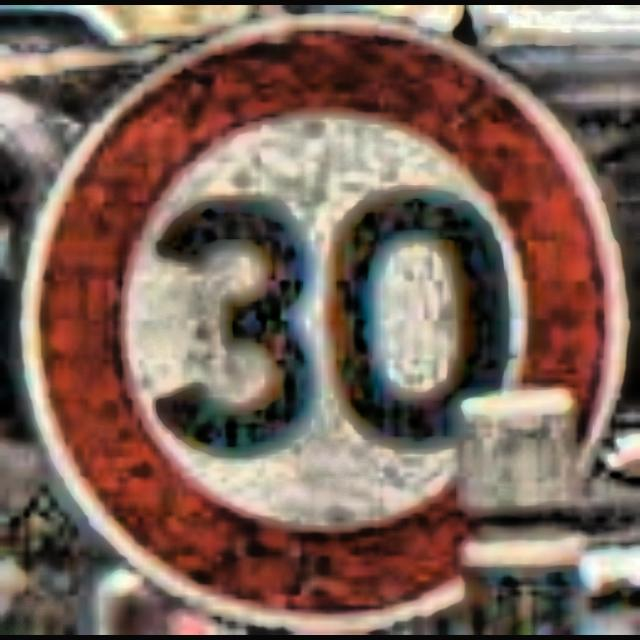speed_30: (35, 24, 619, 620)
